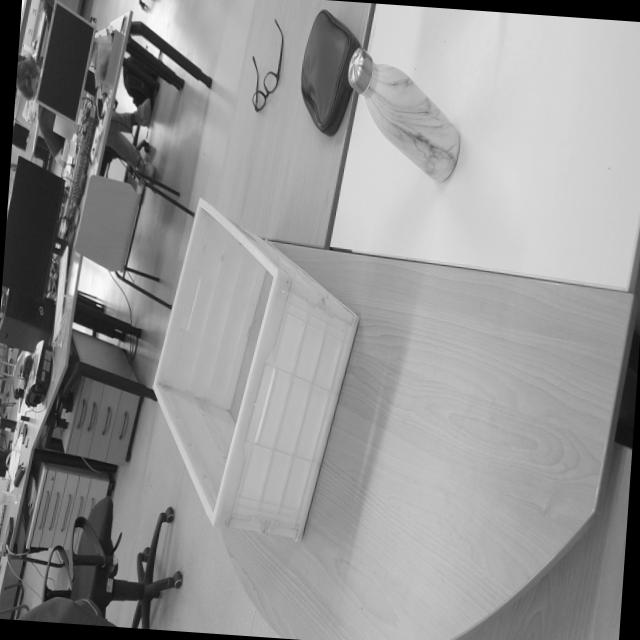box: (134, 192, 372, 562)
